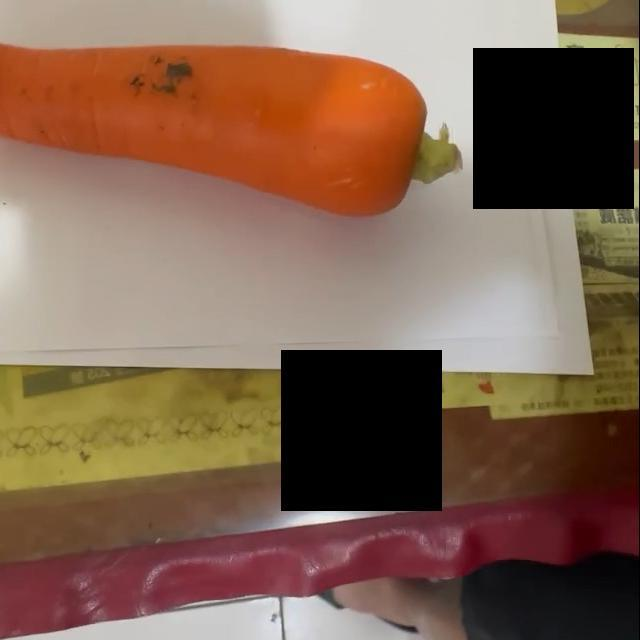carrot: (1, 36, 467, 220)
